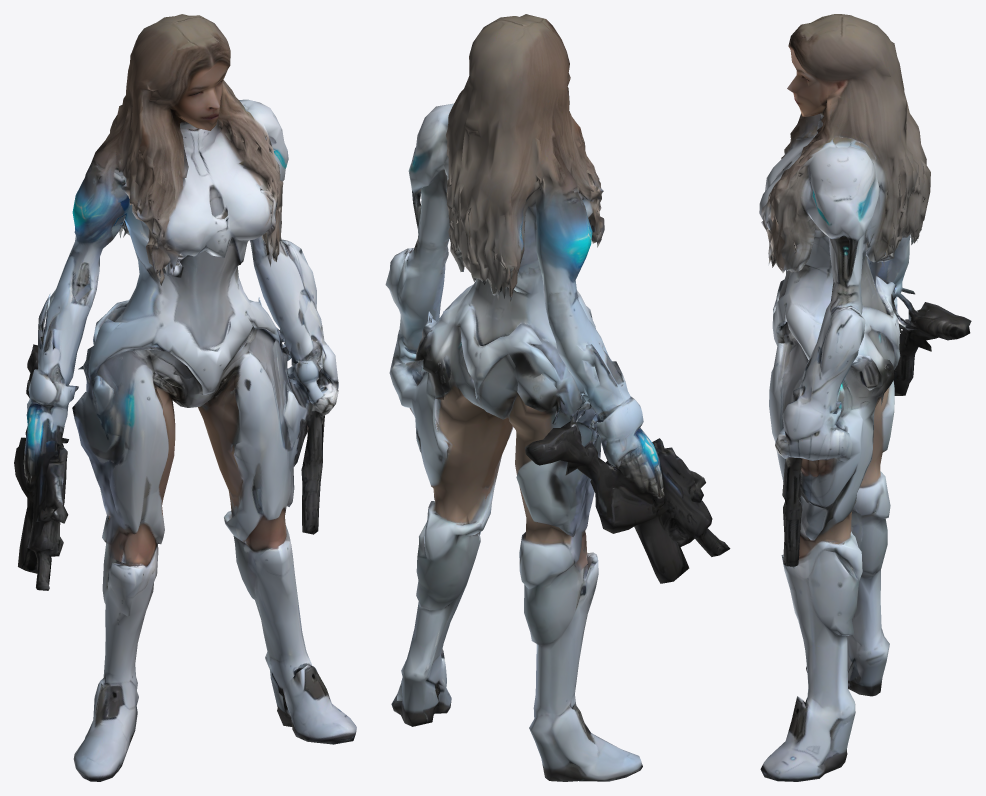
File: Cyber_Guardian_0521112627_texture.glb
The picture shows the model from 3 angles, left to right: view 1: azimuth 30°, elevation 25°; view 2: azimuth 150°, elevation 25°; view 3: azimuth 270°, elevation 25°; orthographic projection. The views are drawn at different scales.
Size of the model in its own units: 0.9178 by 1.98 by 0.5467.
1 material, 1 textured.
